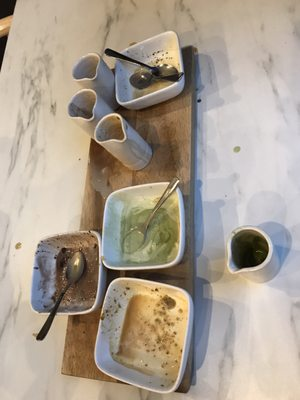pizza: (225, 221, 293, 285)
salad: (36, 250, 86, 341)
sandwich: (35, 250, 85, 341)
sushi: (94, 277, 192, 394), (101, 180, 186, 270)
